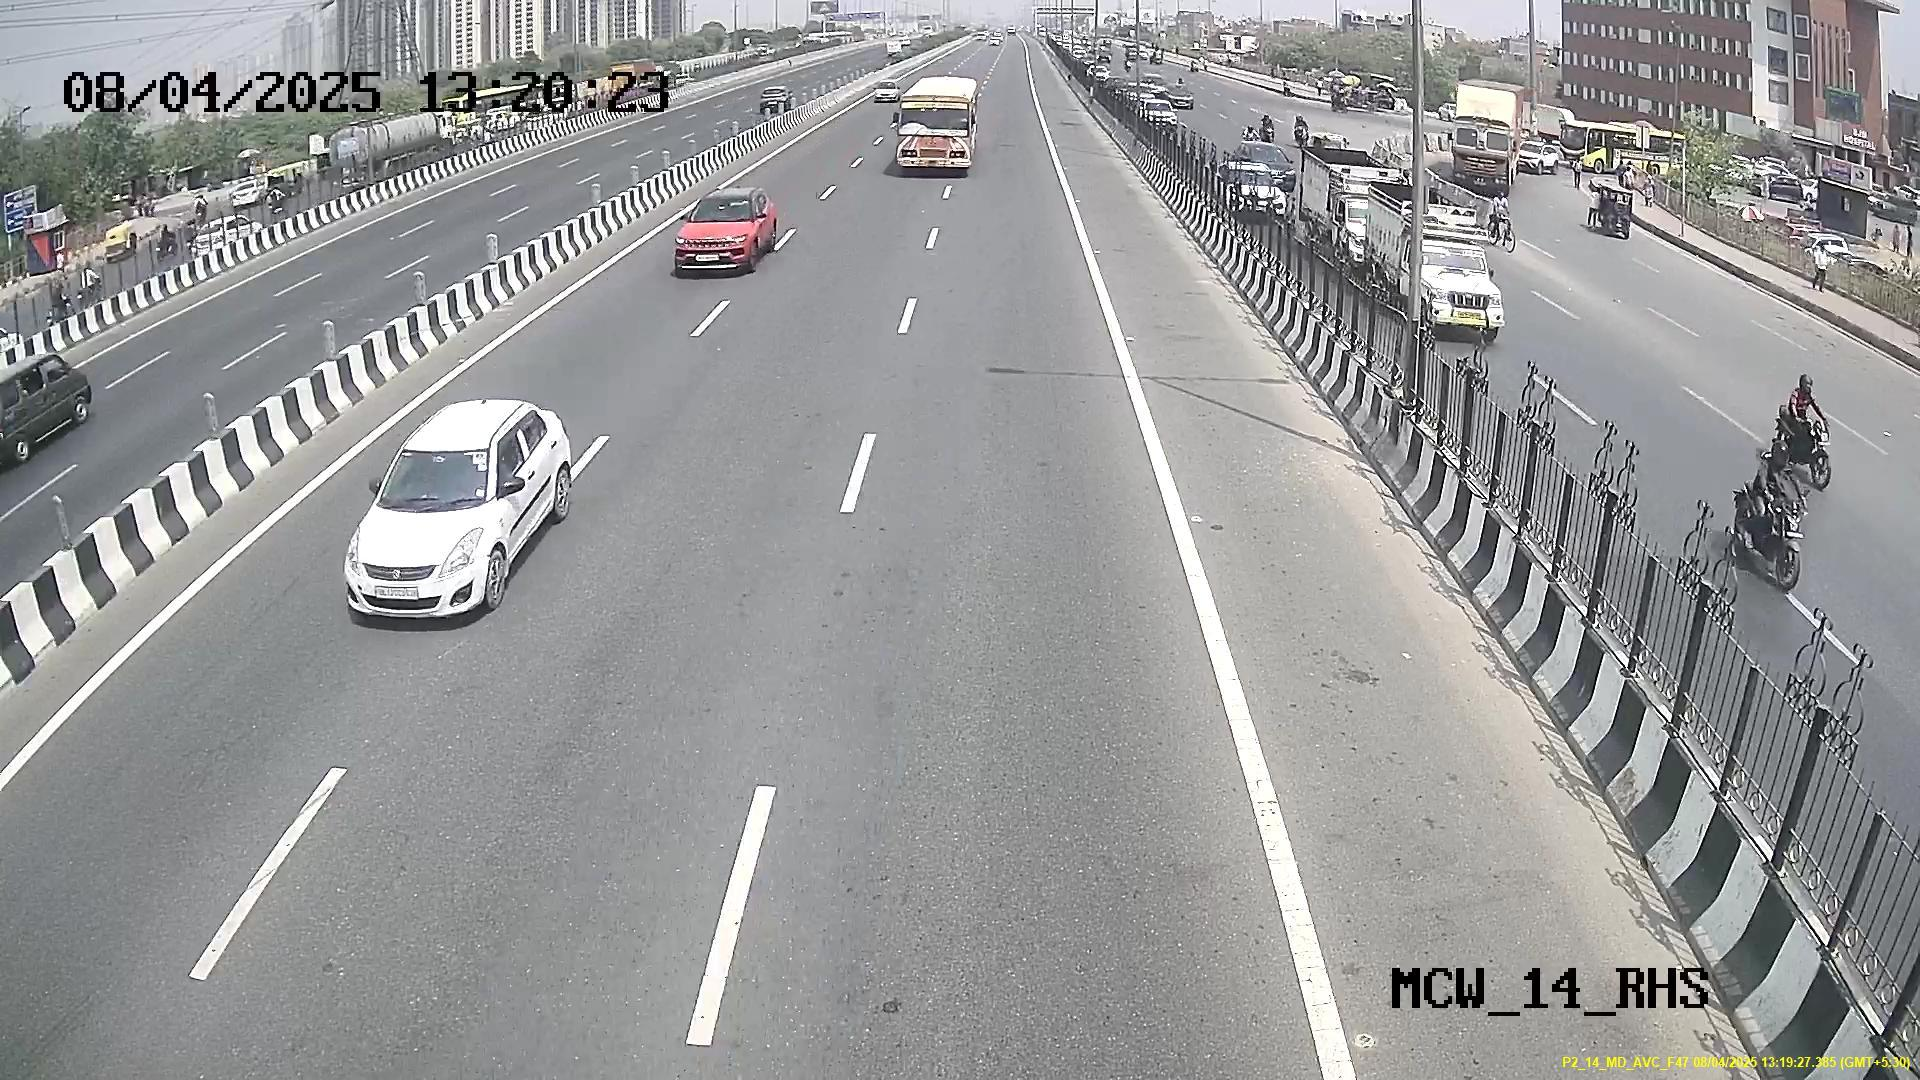car: (343, 419, 516, 629), (891, 86, 978, 177), (673, 191, 762, 278)
